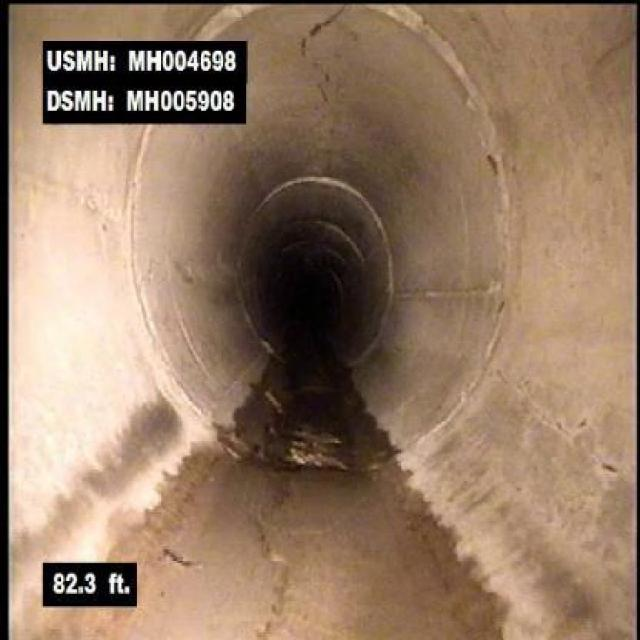Crack: (502, 363, 629, 491), (249, 483, 297, 637), (297, 11, 348, 100), (162, 543, 203, 571)
